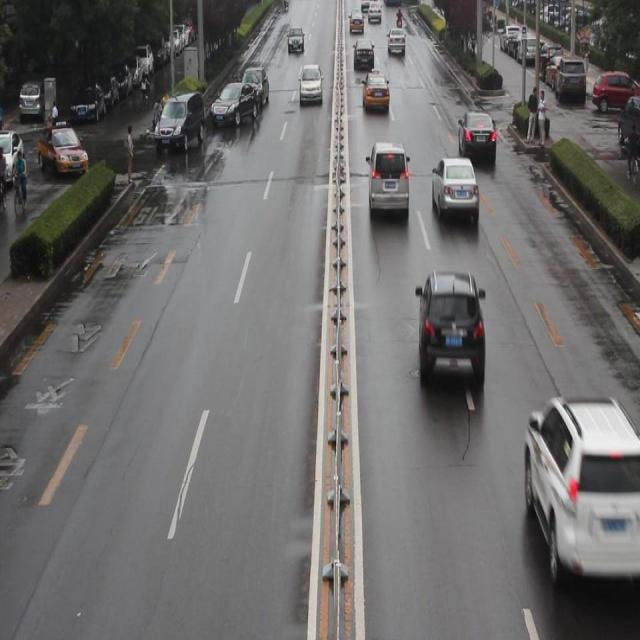car: (525, 393, 640, 584), (417, 272, 483, 392), (431, 160, 478, 224), (457, 111, 494, 165), (210, 82, 257, 124)
truck: (366, 143, 408, 217), (153, 93, 205, 151)
